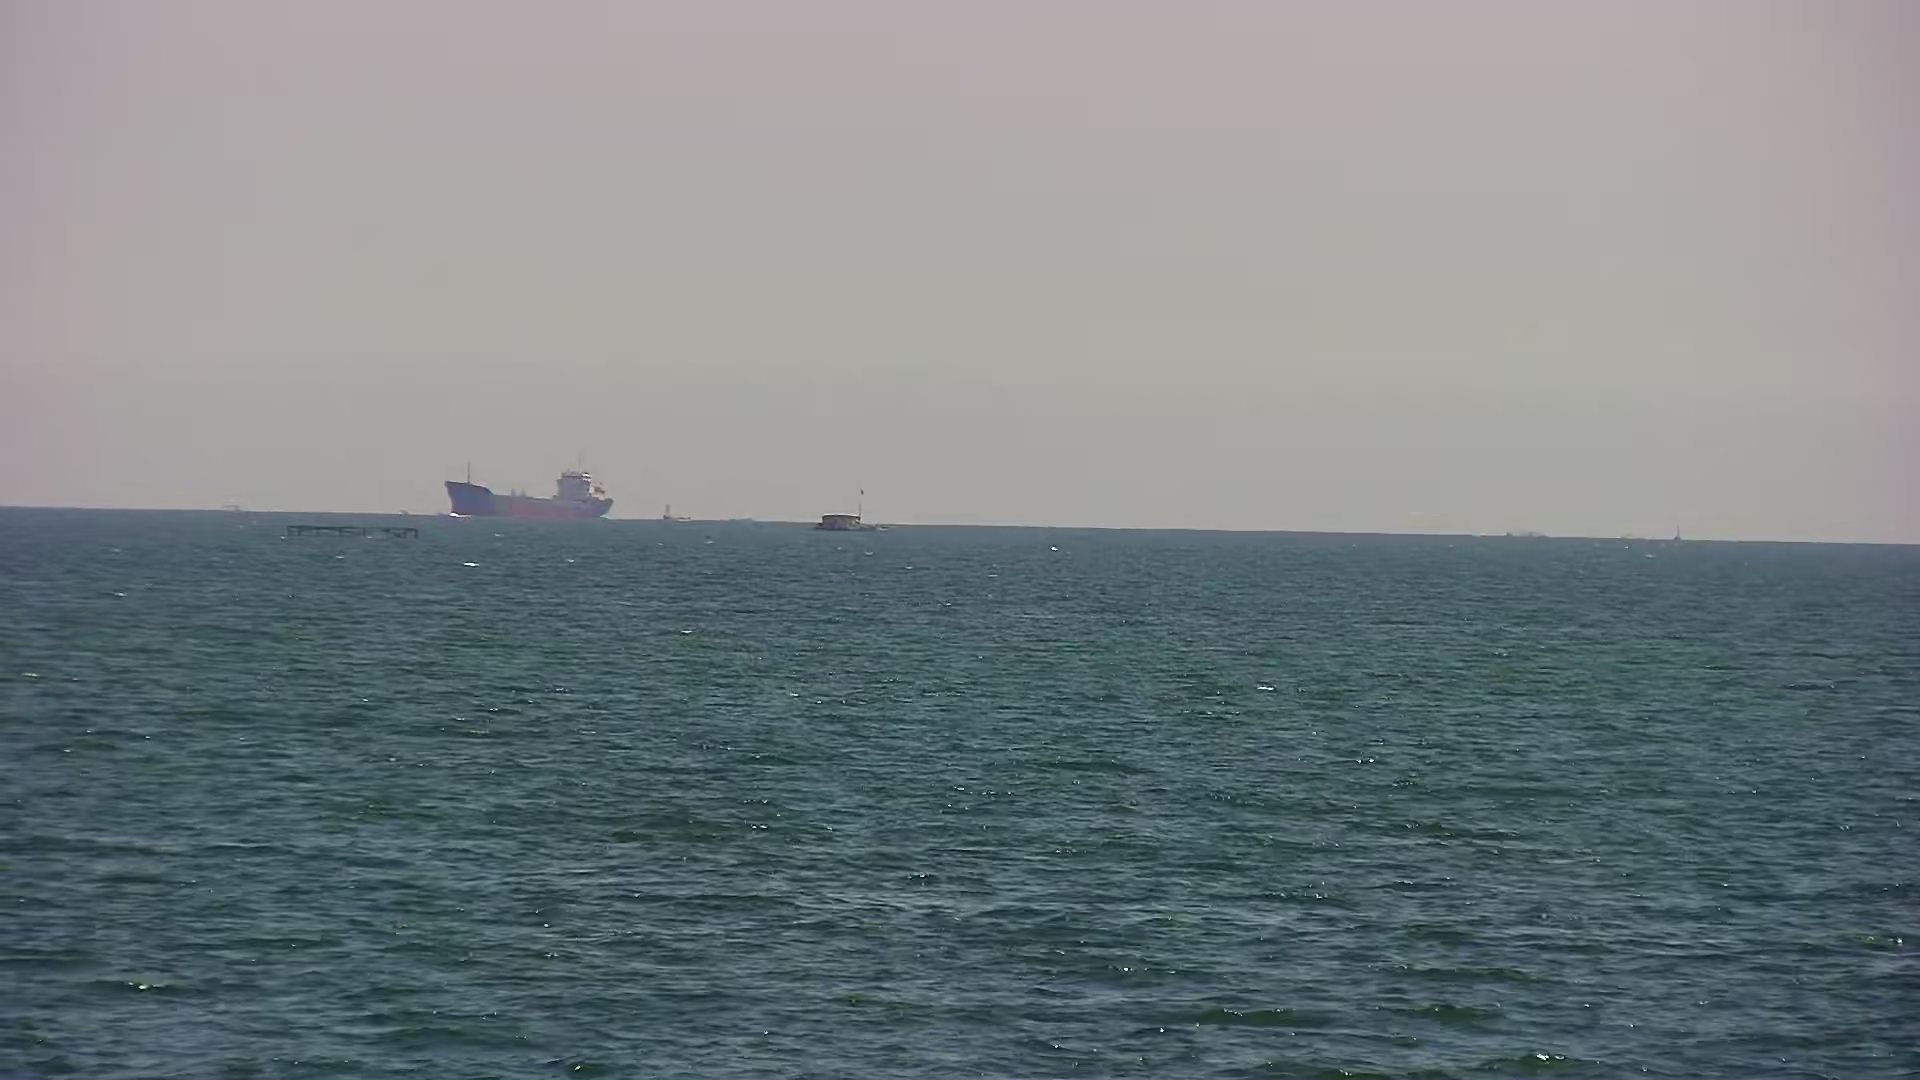platform: (808, 480, 907, 546), (272, 516, 436, 550)
ship: (433, 454, 625, 527), (657, 502, 761, 525)
